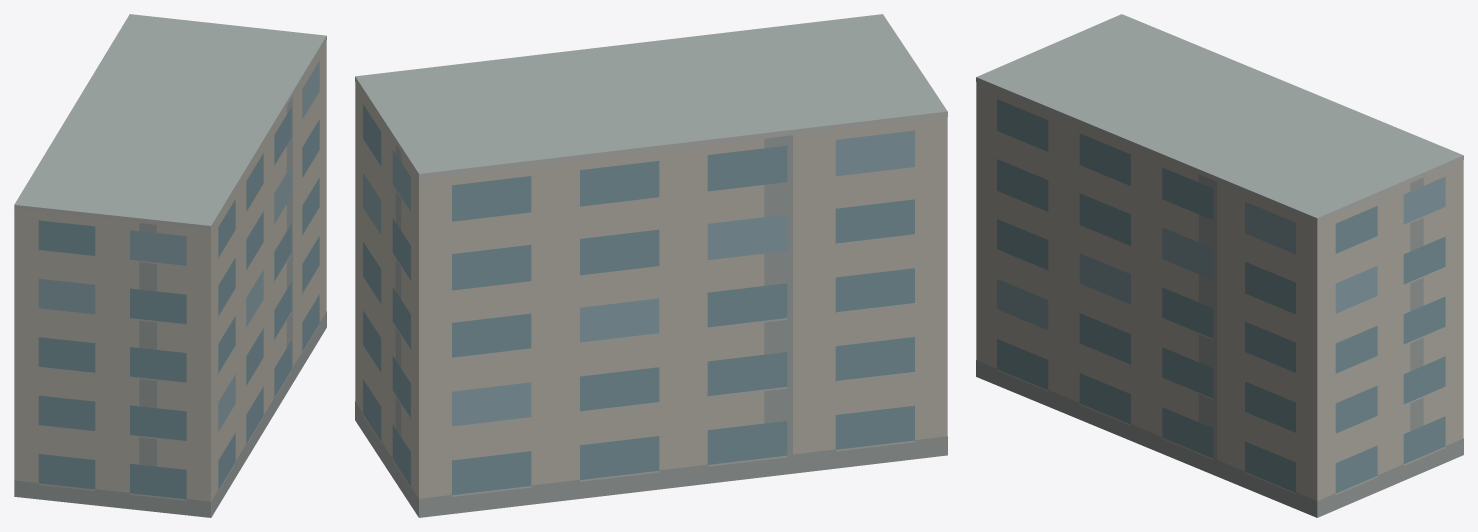
The model's file is survey-upis-32761970.glb.
3 renders of one model, left to right at view 1: azimuth 30°, elevation 25°; view 2: azimuth 150°, elevation 25°; view 3: azimuth 270°, elevation 25°, orthographic. The views are drawn at different scales.
Visible parts, largest first — view 1: survey-upis-32761970.tmp; view 2: survey-upis-32761970.tmp; view 3: survey-upis-32761970.tmp.
Boxes of the visible parts, bbox=[...] form: survey-upis-32761970.tmp: bbox=[14, 14, 326, 517]; survey-upis-32761970.tmp: bbox=[355, 14, 947, 517]; survey-upis-32761970.tmp: bbox=[976, 14, 1463, 517].
Bounding box in the file's own units: 22.3 × 15.25 × 22.5.
